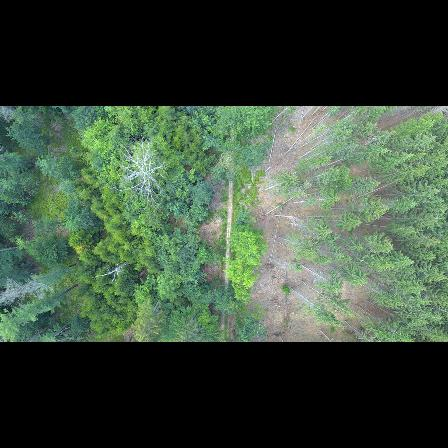Dead: (115, 136, 164, 207), (0, 276, 61, 305), (90, 262, 132, 284)
